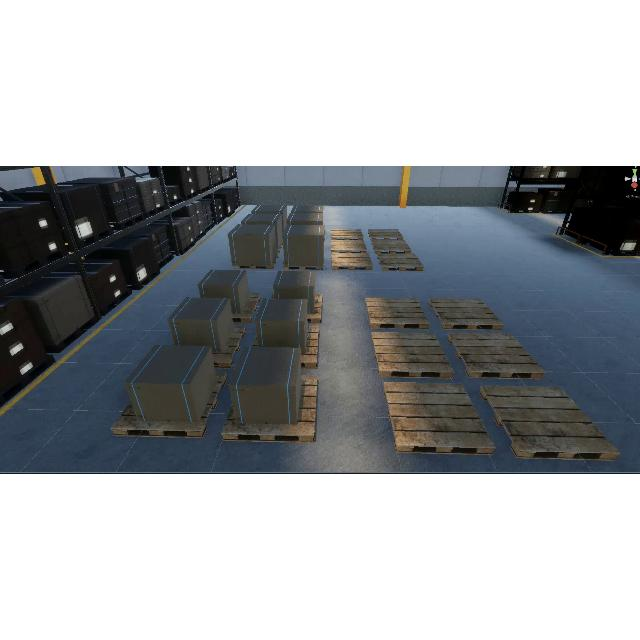wooden_pallet: (479, 386, 622, 462), (383, 383, 495, 456), (110, 371, 227, 439), (221, 375, 318, 444), (446, 332, 546, 380), (371, 333, 454, 380), (428, 299, 504, 331), (365, 298, 430, 330), (212, 325, 246, 368), (233, 293, 262, 324), (233, 250, 280, 269), (377, 253, 424, 271), (332, 253, 373, 270), (371, 240, 412, 254), (331, 240, 367, 253), (370, 229, 404, 240), (331, 229, 364, 240), (282, 266, 322, 270)
